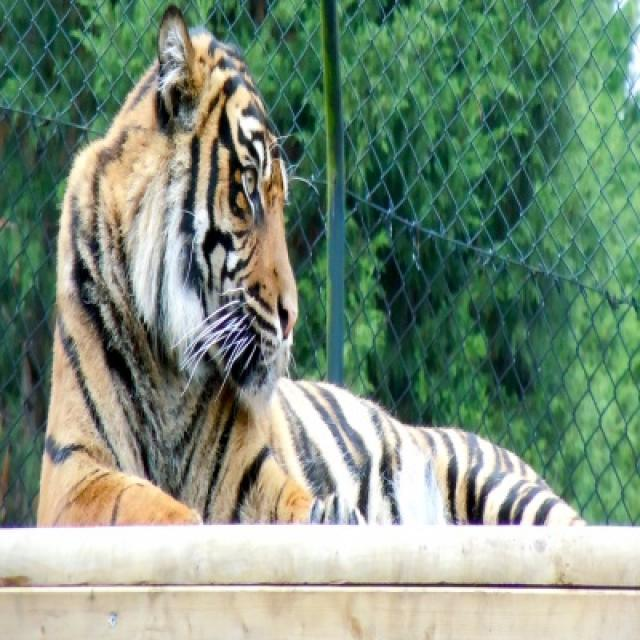Tiger: (33, 7, 590, 521)
